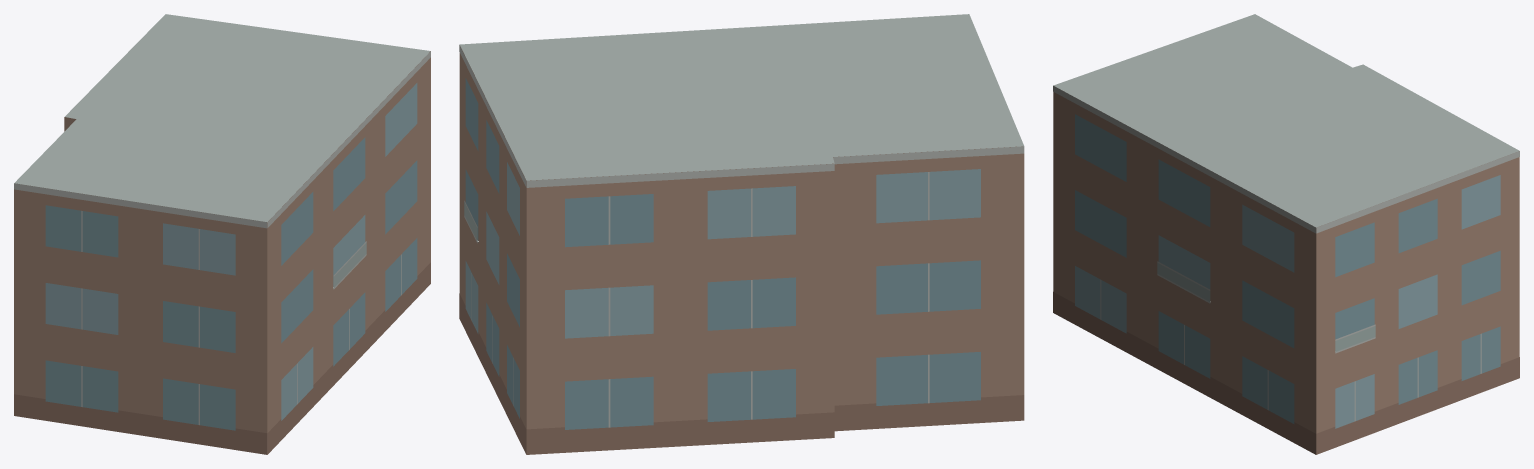
The model's file is survey-upis-32781355.glb.
The picture shows the model from 3 angles, left to right: view 1: azimuth 30°, elevation 25°; view 2: azimuth 150°, elevation 25°; view 3: azimuth 270°, elevation 25°; orthographic projection. The views are drawn at different scales.
Visible parts, largest first — view 1: survey-upis-32781355.tmp; view 2: survey-upis-32781355.tmp; view 3: survey-upis-32781355.tmp.
Boxes of the visible parts, <box> form: survey-upis-32781355.tmp: <box>14,14,430,454</box>; survey-upis-32781355.tmp: <box>459,14,1024,454</box>; survey-upis-32781355.tmp: <box>1053,14,1519,454</box>.
Size of the model in its own units: 18.44 by 9.15 by 17.03.
